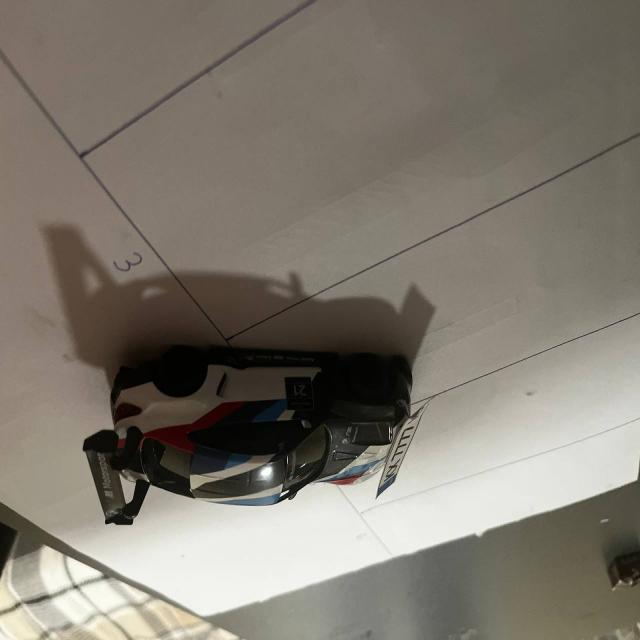cars: (66, 326, 444, 525)
